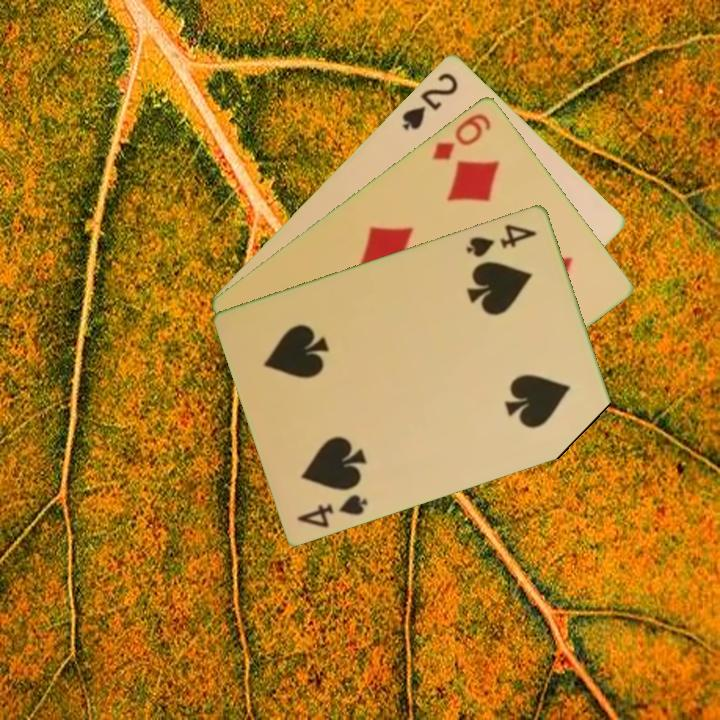2s: (398, 68, 461, 133)
4s: (462, 220, 540, 260), (293, 490, 371, 530)
6d: (428, 109, 494, 163)
